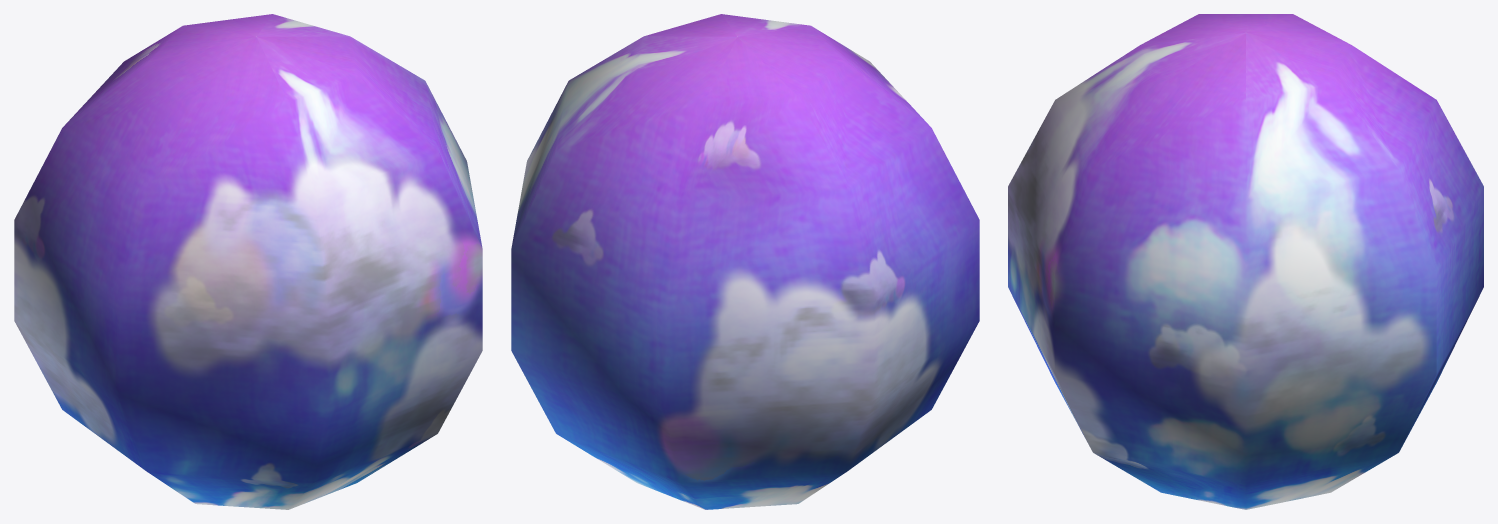
The model's file is dome_mesh.fbx.
3 renders of one model, left to right at view 1: azimuth 30°, elevation 25°; view 2: azimuth 150°, elevation 25°; view 3: azimuth 270°, elevation 25°, orthographic.
Visible parts, largest first — view 1: pSphere1; view 2: pSphere1; view 3: pSphere1.
Boxes of the visible parts, bbox=[...] form: pSphere1: bbox=[14, 14, 482, 509]; pSphere1: bbox=[511, 14, 979, 509]; pSphere1: bbox=[1008, 14, 1483, 509].
Bounding box in the file's own units: 127 × 137 × 131.
Materials: 1 (1 with a texture image).
